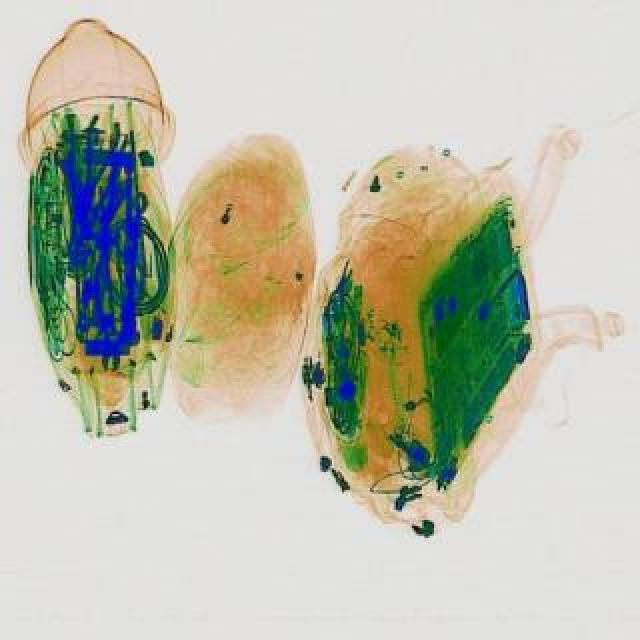wrench: (70, 118, 122, 218)
